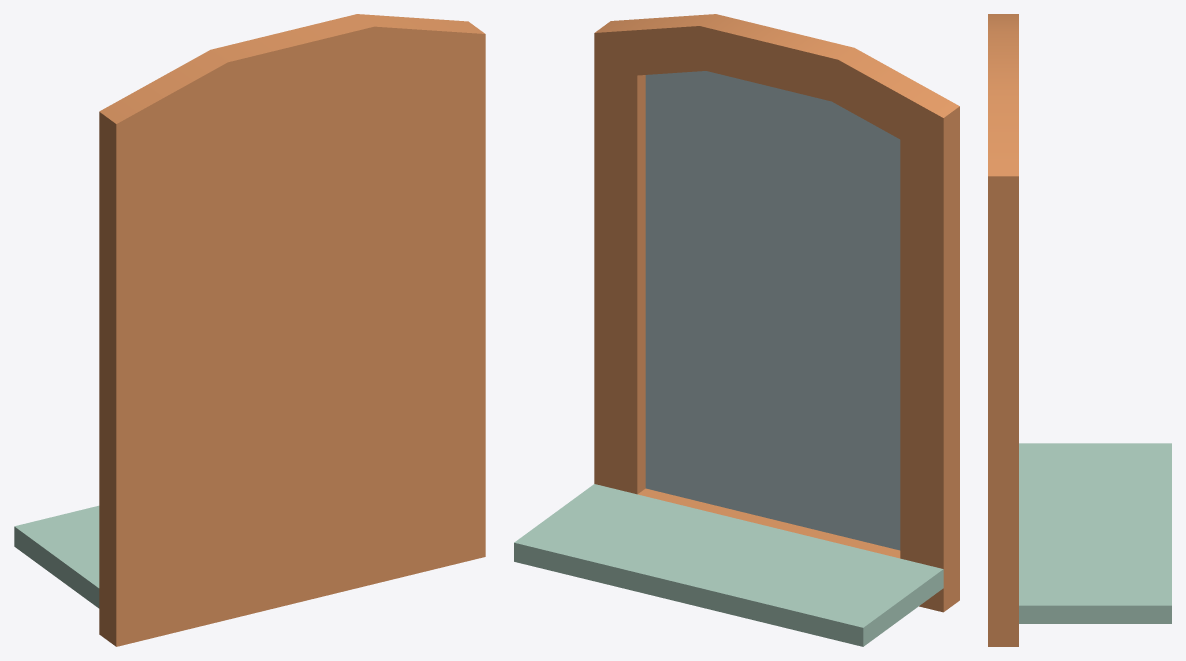
Rendered from Wall_Bathroom_Mirror.glb.
3 views of the same model, side by side, from view 1: azimuth 30°, elevation 25°; view 2: azimuth 150°, elevation 25°; view 3: azimuth 270°, elevation 25° (orthographic). The views are drawn at different scales.
Visible parts, largest first — view 1: bathroomMirror; view 2: bathroomMirror; view 3: bathroomMirror.
Boxes of the visible parts, x1=… form: bathroomMirror: x1=14, y1=14, x2=485, y2=646; bathroomMirror: x1=514, y1=14, x2=959, y2=646; bathroomMirror: x1=988, y1=14, x2=1171, y2=646.
Size of the model in its own units: 0.3013 by 0.4346 by 0.1444.
